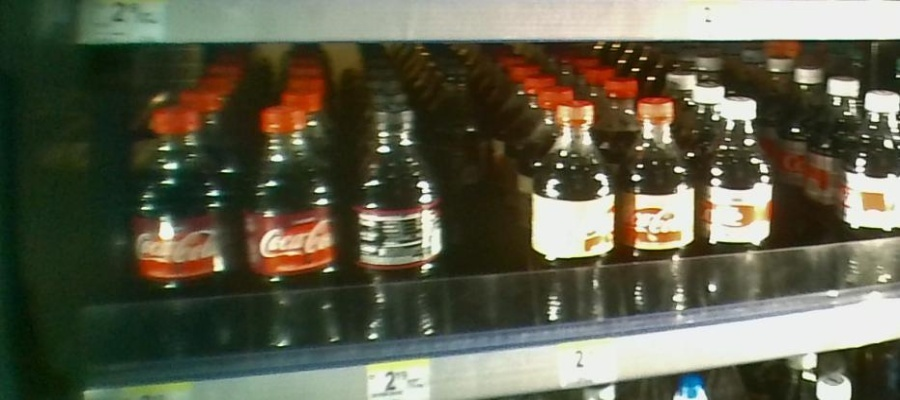bottle: (130, 108, 238, 367), (239, 98, 342, 365), (345, 96, 443, 358), (528, 87, 619, 338), (620, 82, 697, 325), (695, 90, 775, 314), (837, 84, 900, 293)
